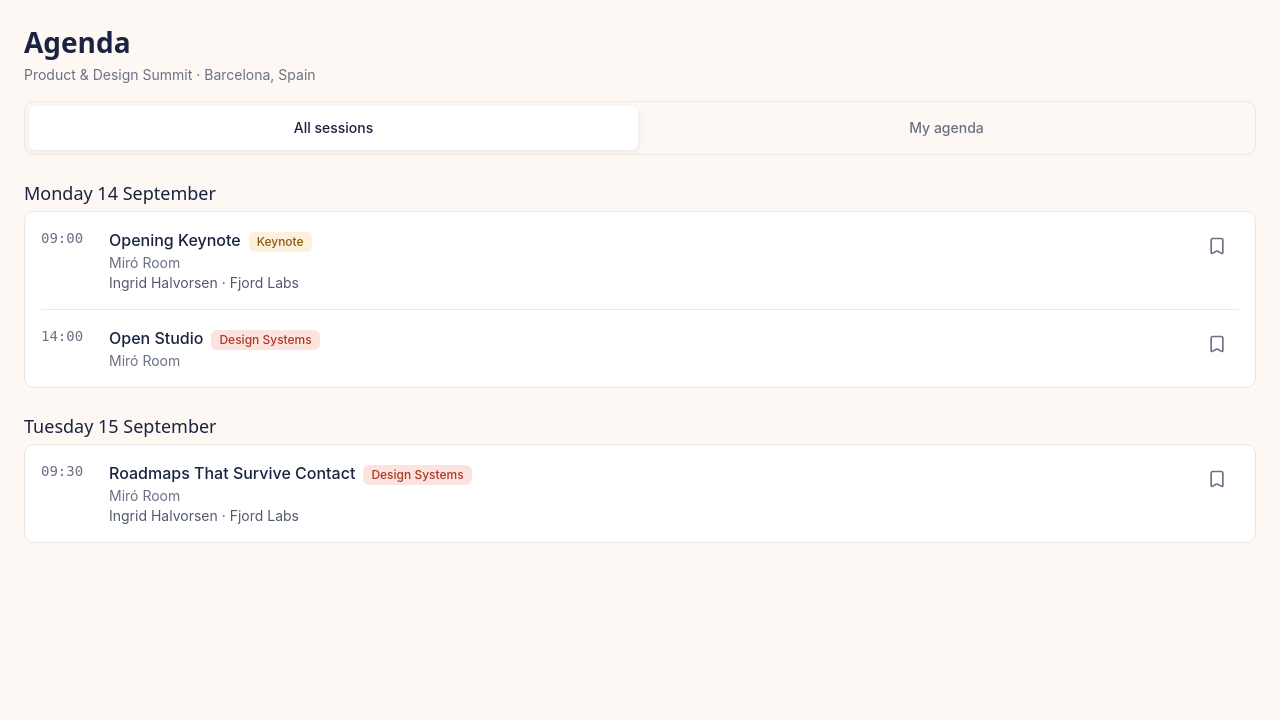
it: the notes section while the read is unsettled › offers a retry instead of an editor when the read fails, and recovers through it
Click the link "Opening Keynote". click: (175, 240)
box: [109, 230, 241, 250]
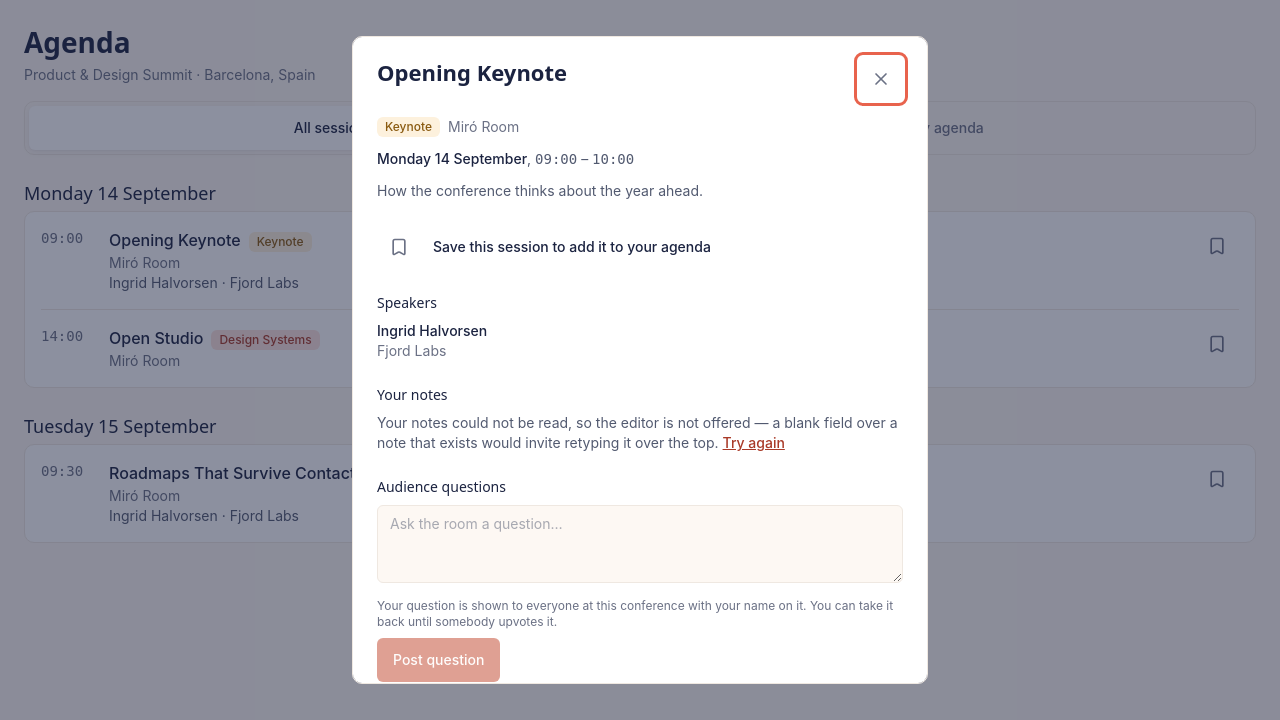
Expected: the field labelled "private notes" is not shown
Expected: the heading "Opening Keynote" is shown, [377, 57, 567, 88]
Expected: the text "Your notes could not be read" is shown, [377, 414, 898, 451]
Click the button "Try again". click: (754, 443)
box: [722, 433, 785, 453]
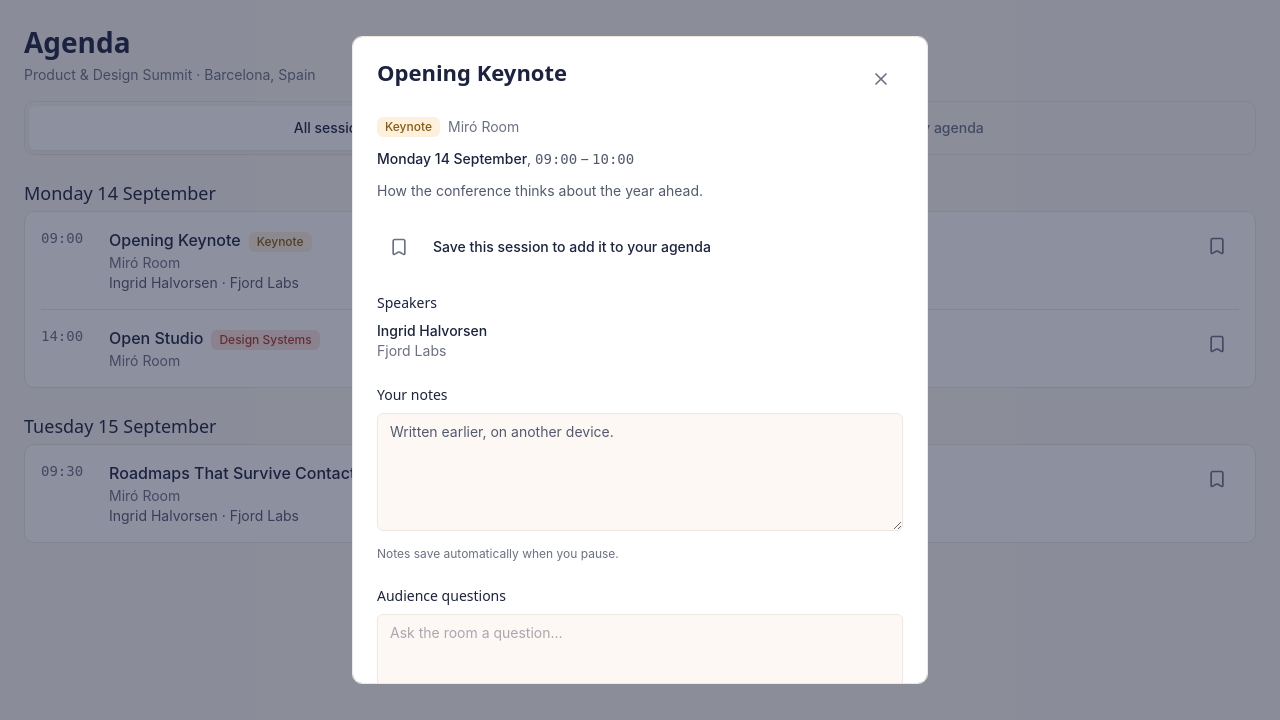
Expected: the text box named "private notes" holds "Written earlier, on another device.", [377, 413, 903, 531]
